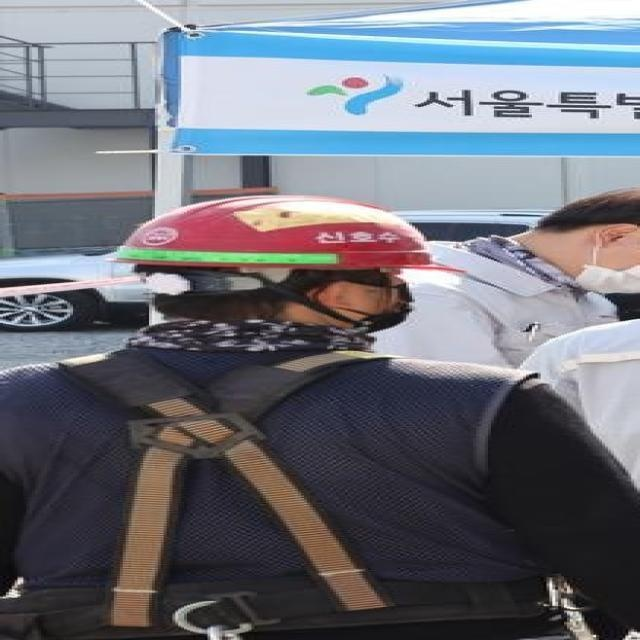Arnes_seguridad: (64, 334, 421, 640)
